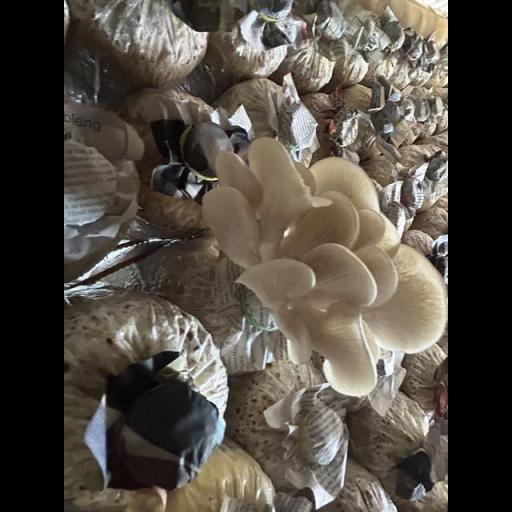White Oyster Mushroom: (204, 132, 451, 401)
